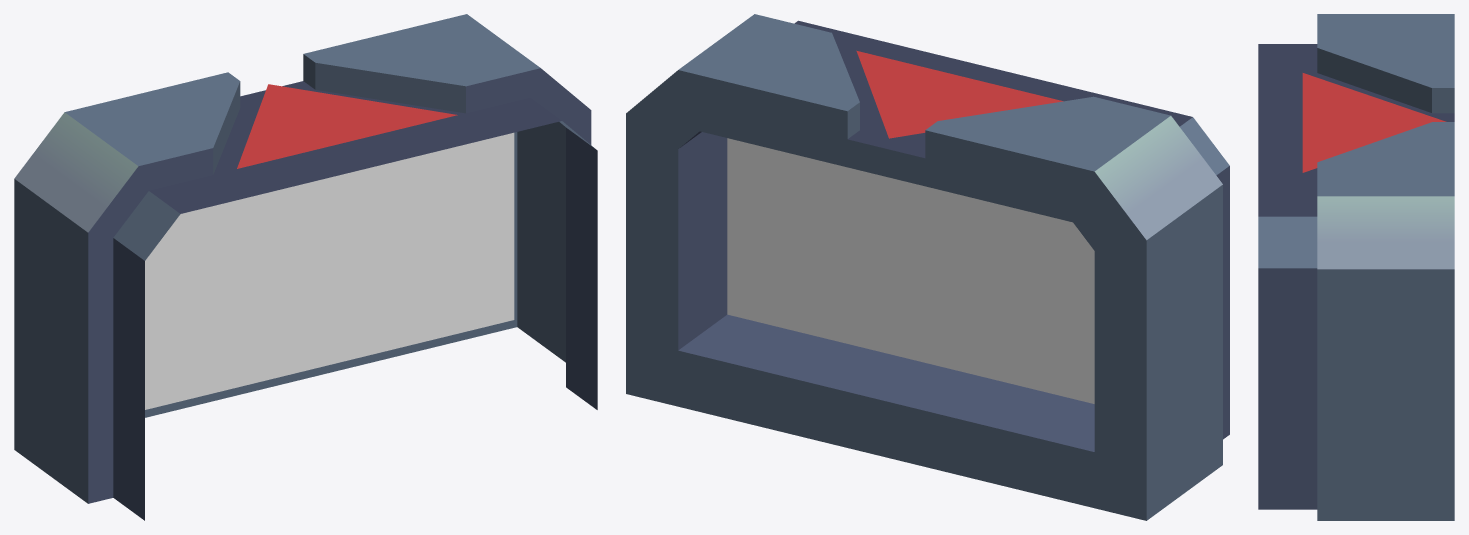
3 renders of one model, left to right at view 1: azimuth 30°, elevation 25°; view 2: azimuth 150°, elevation 25°; view 3: azimuth 270°, elevation 25°, orthographic. The views are drawn at different scales.
Parts seen in each view (by area): view 1: Output; view 2: Output; view 3: Output.
Boxes of the visible parts, x1,y1,x2,y2 form: Output: [14, 14, 597, 520]; Output: [626, 14, 1229, 520]; Output: [1258, 14, 1454, 520].
Size of the model in its own units: 0.55 by 0.34 by 0.2.
